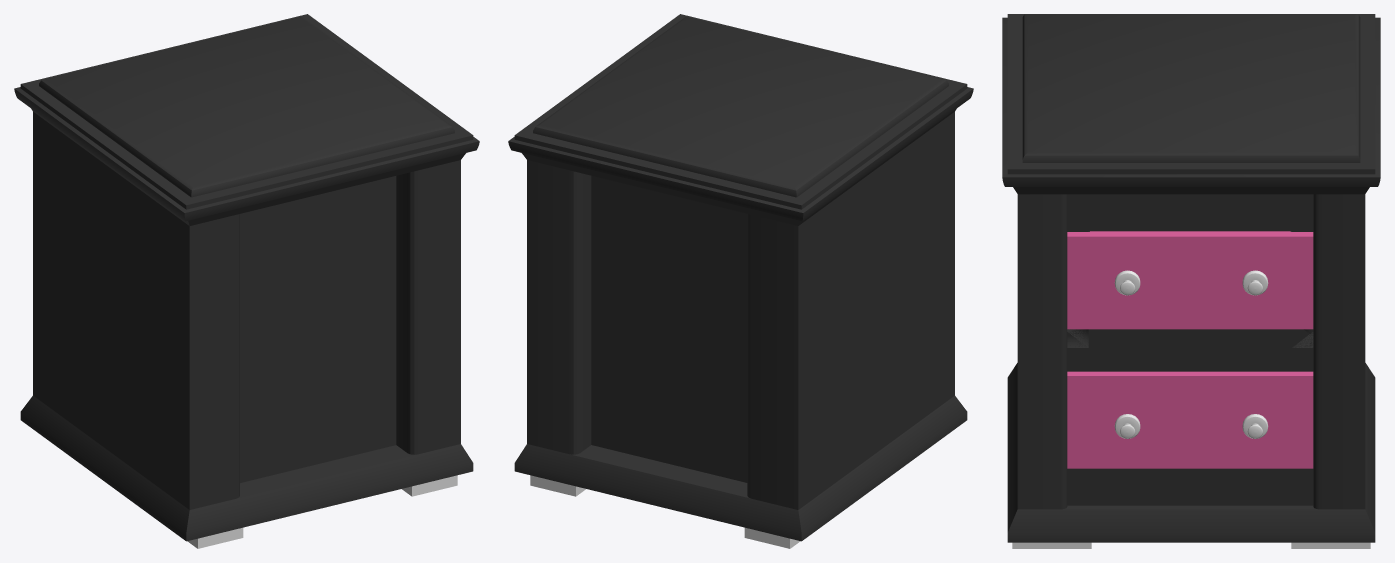
The model's file is bedsidedrawer2.fbx.
The picture shows the model from 3 angles, left to right: view 1: azimuth 30°, elevation 25°; view 2: azimuth 150°, elevation 25°; view 3: azimuth 270°, elevation 25°; orthographic projection. The views are drawn at different scales.
Visible parts, largest first — view 1: box, Upper, Down, feet2; view 2: box, Upper, Down, feet2; view 3: Upper, box, draws, Down, buttons, feet2.
Part boxes in pixels (left/top/right/bottom): box: left=33, top=112, right=460, bottom=509; Upper: left=14, top=14, right=479, bottom=225; Down: left=20, top=395, right=473, bottom=541; feet2: left=187, top=475, right=457, bottom=548; box: left=527, top=112, right=954, bottom=509; Upper: left=508, top=14, right=973, bottom=225; Down: left=514, top=395, right=967, bottom=541; feet2: left=530, top=475, right=800, bottom=548; Upper: left=1002, top=14, right=1380, bottom=194; box: left=1017, top=194, right=1365, bottom=509; draws: left=1067, top=231, right=1313, bottom=468; Down: left=1007, top=363, right=1375, bottom=542; buttons: left=1114, top=270, right=1268, bottom=438; feet2: left=1012, top=542, right=1370, bottom=548.
Size of the model in its own units: 224 by 251 by 218.
